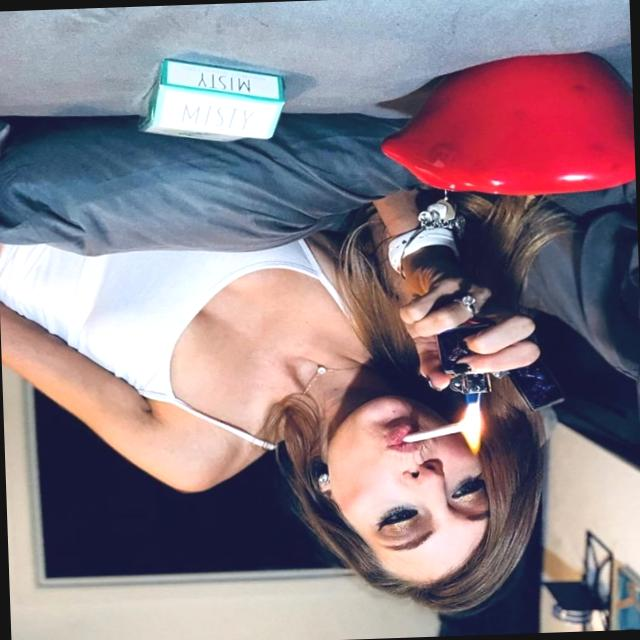cigarette: (399, 402, 484, 447)
